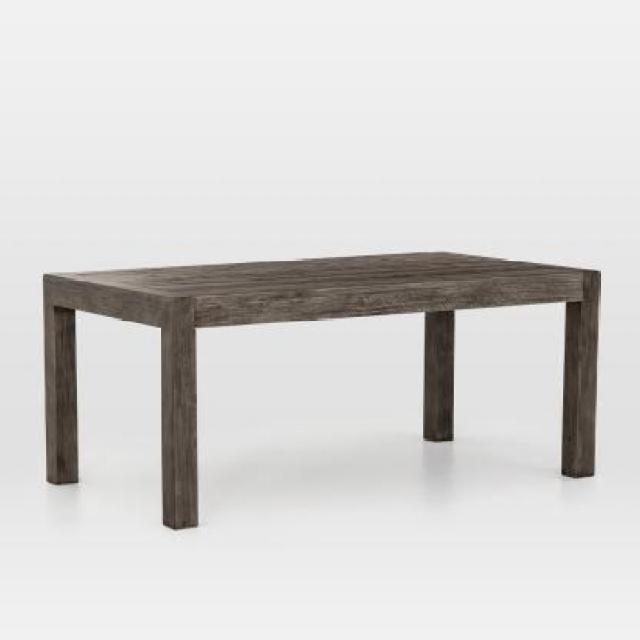table: (42, 253, 600, 532)
